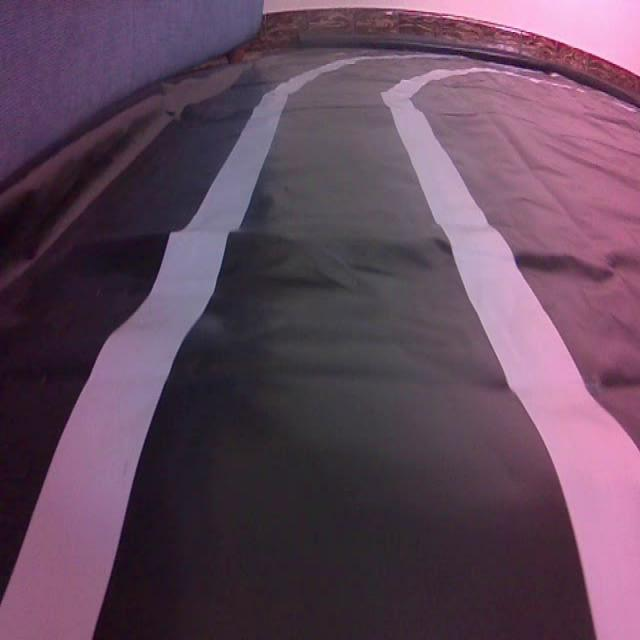LineaCarril: (0, 57, 371, 638), (383, 70, 640, 638)
